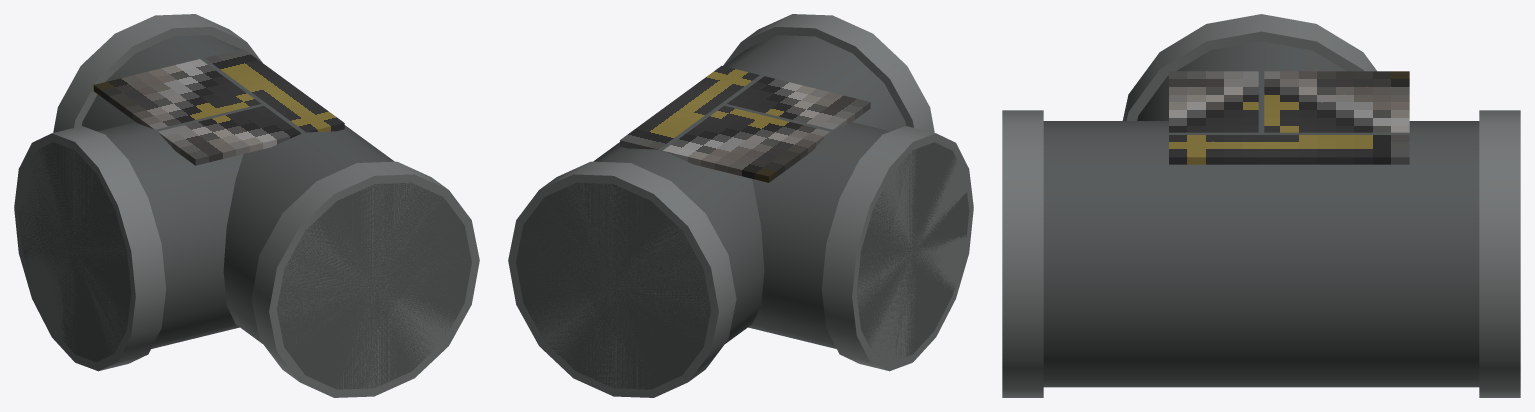
The model's file is CMU3DReduxDisposalRouterLoose.glb.
3 views of the same model, side by side, from view 1: azimuth 30°, elevation 25°; view 2: azimuth 150°, elevation 25°; view 3: azimuth 270°, elevation 25° (orthographic). The views are drawn at different scales.
Visible parts, largest first — view 1: round S barrel, round W barrel, S coupling, W coupling, source routing plate, N coupling, round N barrel; view 2: round N barrel, round W barrel, N coupling, W coupling, source routing plate, round S barrel, S coupling; view 3: round S barrel, round N barrel, source routing plate, N coupling, S coupling, W coupling, round W barrel.
Boxes of the visible parts, x1=… form: round S barrel: x1=223, y1=103, x2=471, y2=389; round W barrel: x1=18, y1=104, x2=264, y2=362; S coupling: x1=251, y1=161, x2=479, y2=397; W coupling: x1=14, y1=126, x2=166, y2=371; source routing plate: x1=93, y1=48, x2=344, y2=165; N coupling: x1=53, y1=14, x2=262, y2=132; round N barrel: x1=82, y1=35, x2=266, y2=131; round N barrel: x1=516, y1=103, x2=764, y2=389; round W barrel: x1=723, y1=104, x2=969, y2=359; N coupling: x1=508, y1=161, x2=736, y2=397; W coupling: x1=821, y1=126, x2=973, y2=371; source routing plate: x1=620, y1=65, x2=870, y2=182; round S barrel: x1=721, y1=35, x2=905, y2=131; S coupling: x1=723, y1=14, x2=934, y2=132; round S barrel: x1=1043, y1=121, x2=1261, y2=387; round N barrel: x1=1261, y1=121, x2=1479, y2=387; source routing plate: x1=1169, y1=71, x2=1409, y2=164; N coupling: x1=1479, y1=110, x2=1520, y2=397; S coupling: x1=1002, y1=110, x2=1043, y2=397; W coupling: x1=1122, y1=14, x2=1376, y2=120; round W barrel: x1=1137, y1=41, x2=1346, y2=133.
Size of the model in its own units: 0.6805 by 0.486 by 0.875.
Materials: 4 (1 with a texture image).
